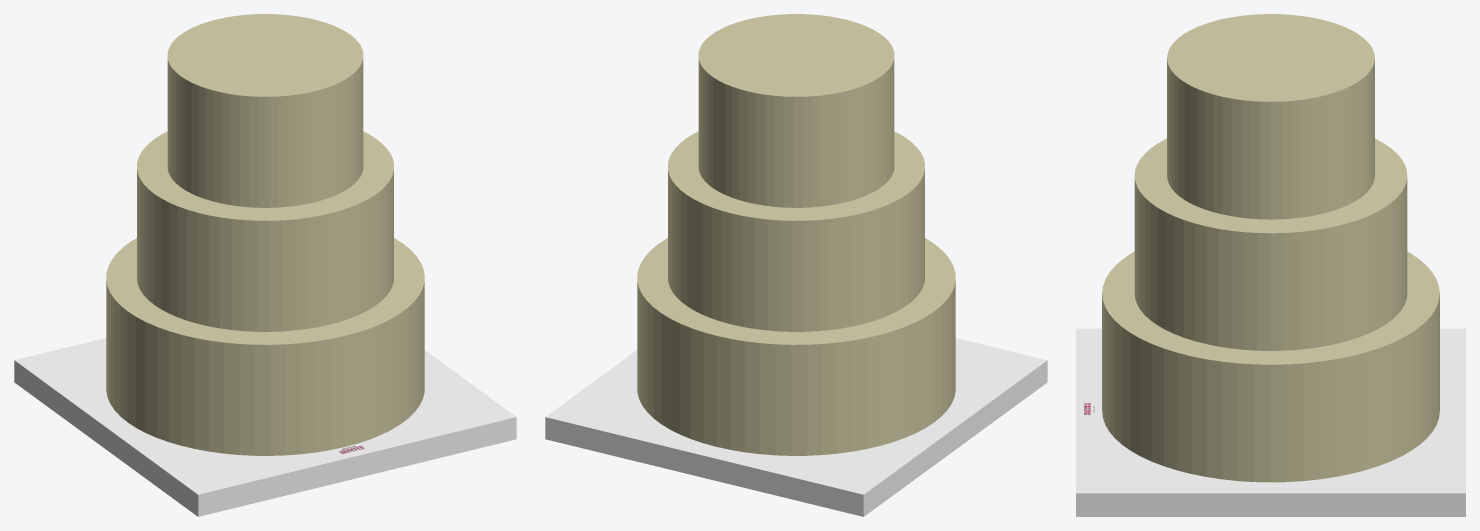
The model's file is cake_tier3_10-8-6_layers2_v35.glb.
3 views of the same model, side by side, from view 1: azimuth 30°, elevation 25°; view 2: azimuth 150°, elevation 25°; view 3: azimuth 270°, elevation 25° (orthographic). The views are drawn at different scales.
Parts seen in each view (by area): view 1: Tier1_10in, Tier2_8in, Tier3_6in, Board; view 2: Tier1_10in, Tier2_8in, Tier3_6in, Board; view 3: Tier1_10in, Tier2_8in, Tier3_6in, Board.
Boxes of the visible parts, x1=… form: Tier1_10in: x1=106, y1=238, x2=424, y2=455; Tier2_8in: x1=137, y1=131, x2=393, y2=331; Tier3_6in: x1=167, y1=14, x2=363, y2=207; Board: x1=14, y1=338, x2=516, y2=516; Tier1_10in: x1=637, y1=238, x2=955, y2=455; Tier2_8in: x1=668, y1=131, x2=924, y2=331; Tier3_6in: x1=698, y1=14, x2=894, y2=207; Board: x1=545, y1=338, x2=1047, y2=516; Tier1_10in: x1=1102, y1=251, x2=1439, y2=482; Tier2_8in: x1=1134, y1=138, x2=1407, y2=350; Tier3_6in: x1=1167, y1=14, x2=1374, y2=219; Board: x1=1076, y1=328, x2=1465, y2=516.
Bounding box in the file's own units: 0.3 × 0.32 × 0.3.
